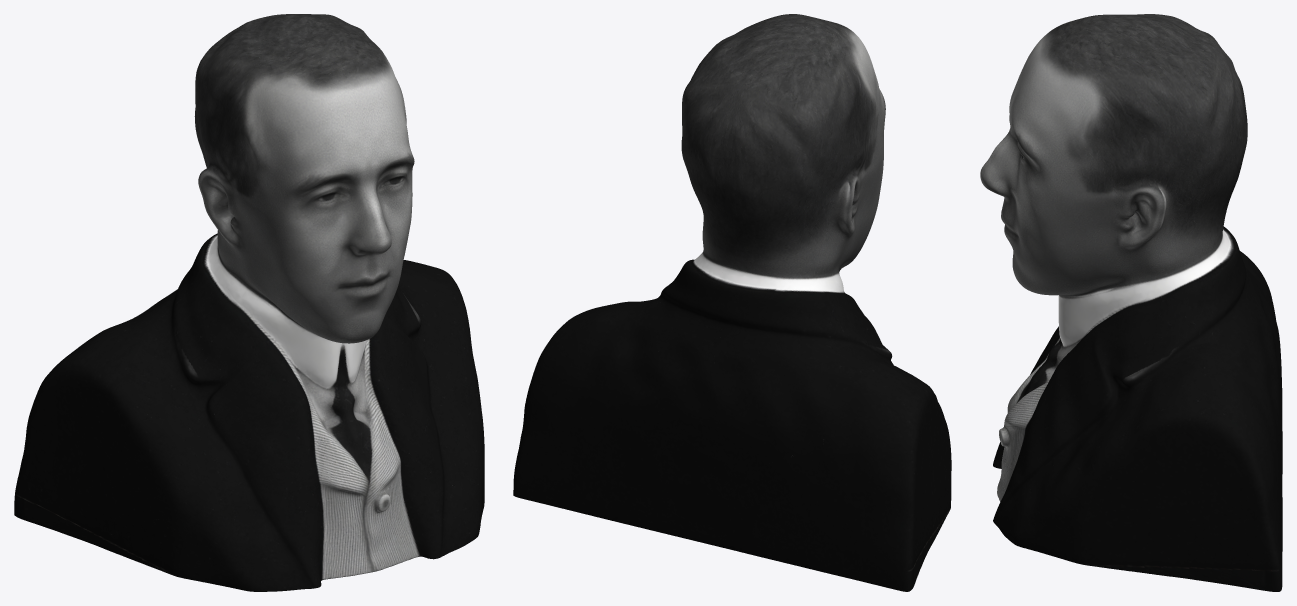
File: Meshy_AI_Sergei_Rachmaninoff_1024085322_texture.glb
3 views of the same model, side by side, from view 1: azimuth 30°, elevation 25°; view 2: azimuth 150°, elevation 25°; view 3: azimuth 270°, elevation 25° (orthographic). The views are drawn at different scales.
Size of the model in its own units: 1.72 by 1.9 by 1.11.
1 material, 1 textured.
